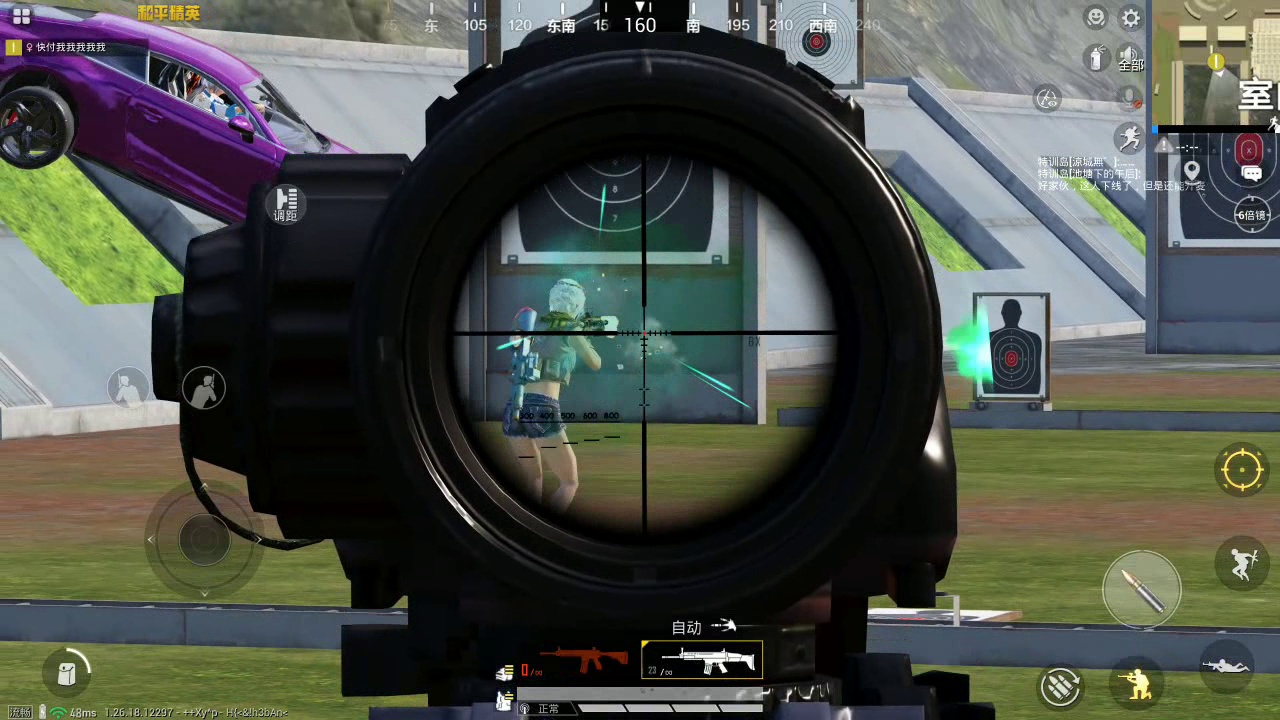enemy: (502, 274, 594, 512)
